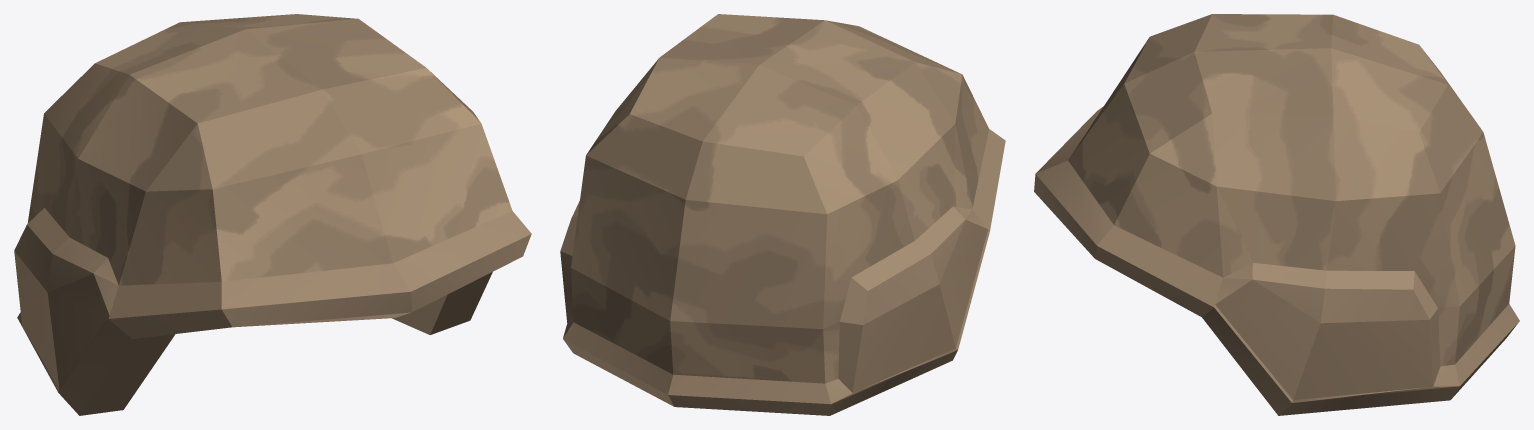
The model's file is Helmet_02_SM.FBX.
3 renders of one model, left to right at view 1: azimuth 30°, elevation 25°; view 2: azimuth 150°, elevation 25°; view 3: azimuth 270°, elevation 25°, orthographic. The views are drawn at different scales.
Visible parts, largest first — view 1: Helmet_02_SM; view 2: Helmet_02_SM; view 3: Helmet_02_SM.
Part boxes in pixels (left/top/right/bottom): Helmet_02_SM: left=14, top=14, right=531, bottom=415; Helmet_02_SM: left=560, top=14, right=1005, bottom=415; Helmet_02_SM: left=1034, top=14, right=1519, bottom=415.
Size of what is drawn, in the model's own units: 26.69 by 30.12 by 19.83.
